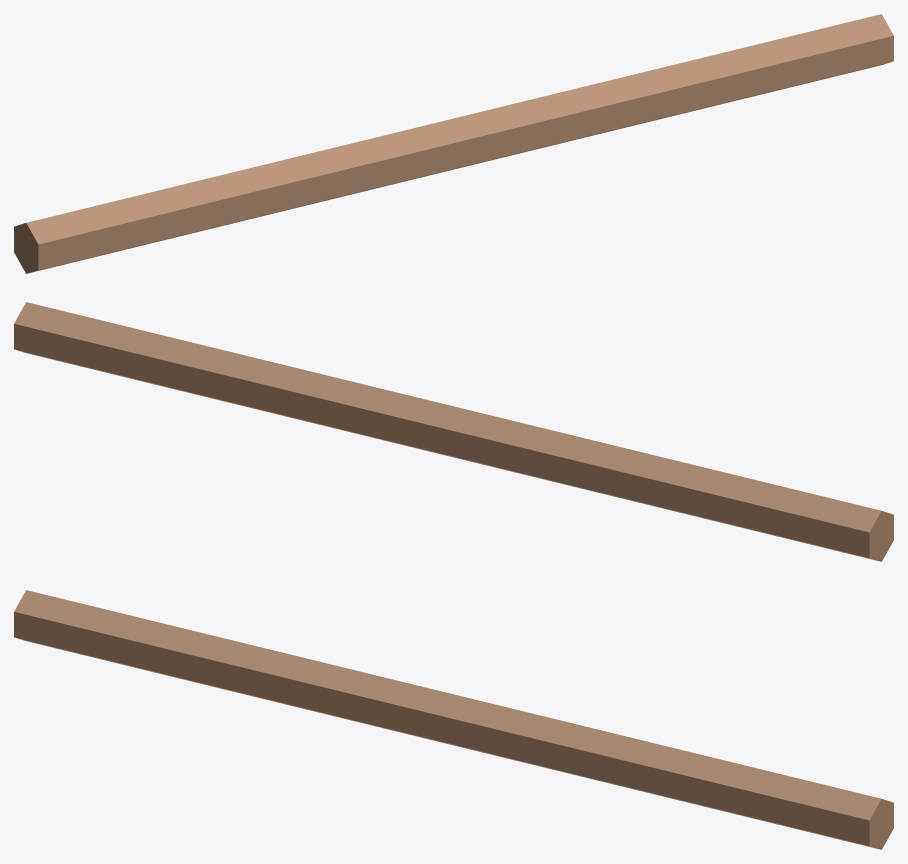
The model's file is held_weapon_pipe.glb.
The picture shows the model from 3 angles, top to bottom: view 1: azimuth 30°, elevation 25°; view 2: azimuth 150°, elevation 25°; view 3: azimuth 330°, elevation 25°; orthographic projection.
Parts seen in each view (by area): view 1: held_weapon_pipe; view 2: held_weapon_pipe; view 3: held_weapon_pipe.
Part boxes in pixels (x1,y1,x2,y2): held_weapon_pipe: [14, 14, 893, 273]; held_weapon_pipe: [14, 302, 893, 561]; held_weapon_pipe: [14, 590, 893, 849].
Bounding box in the file's own units: 0.7 × 0.04 × 0.0346.
